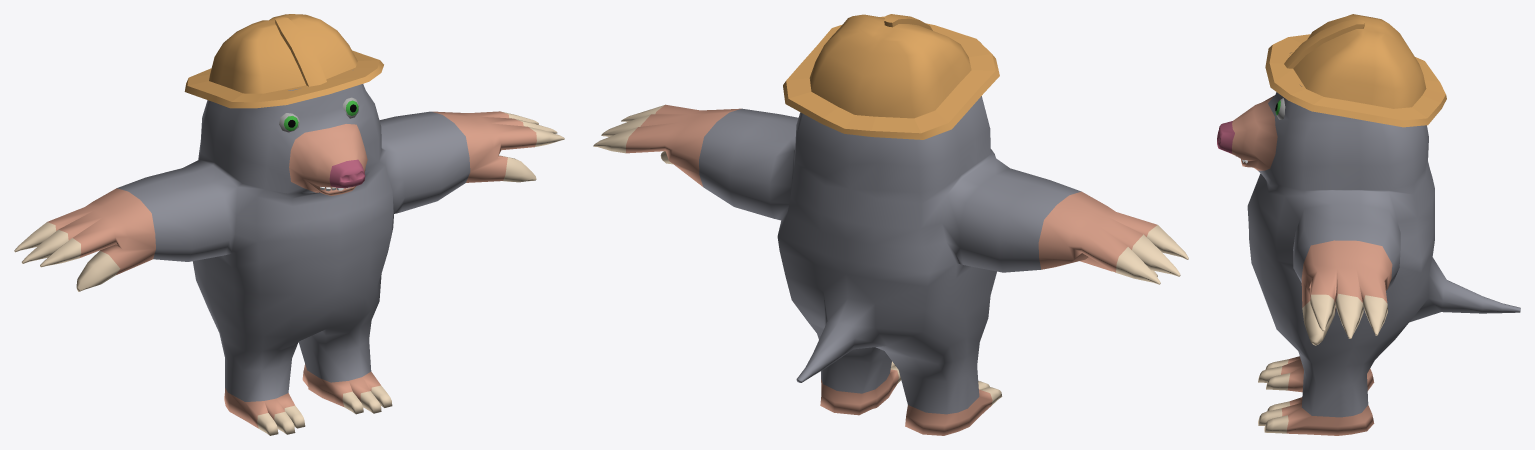
The model's file is Momoto.fbx.
3 views of the same model, side by side, from view 1: azimuth 30°, elevation 25°; view 2: azimuth 150°, elevation 25°; view 3: azimuth 270°, elevation 25° (orthographic). The views are drawn at different scales.
Visible parts, largest first — view 1: polySurface16, polySurface17; view 2: polySurface16, polySurface17; view 3: polySurface16, polySurface17.
Part boxes in pixels (left/top/right/bottom): polySurface16: left=14, top=84, right=564, bottom=435; polySurface17: left=184, top=14, right=383, bottom=108; polySurface16: left=593, top=96, right=1188, bottom=435; polySurface17: left=783, top=14, right=999, bottom=139; polySurface16: left=1217, top=52, right=1520, bottom=435; polySurface17: left=1265, top=14, right=1446, bottom=127.
Size of the model in its own units: 12.31 by 8.16 by 5.92.
